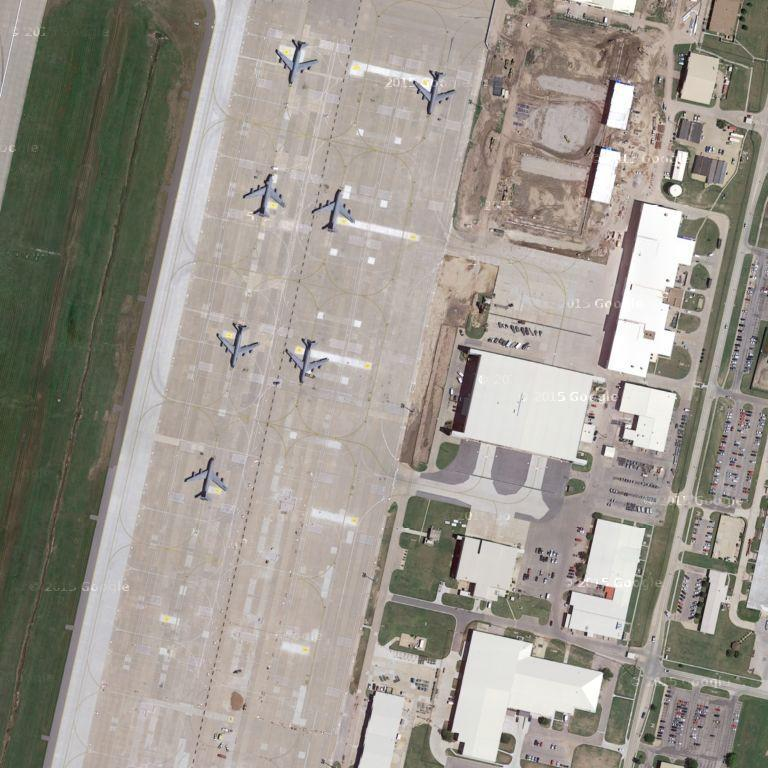KC-135: (308, 186, 358, 239), (213, 318, 264, 369), (179, 453, 232, 502), (283, 335, 331, 388), (272, 38, 319, 88), (413, 67, 458, 119), (242, 171, 288, 219)
